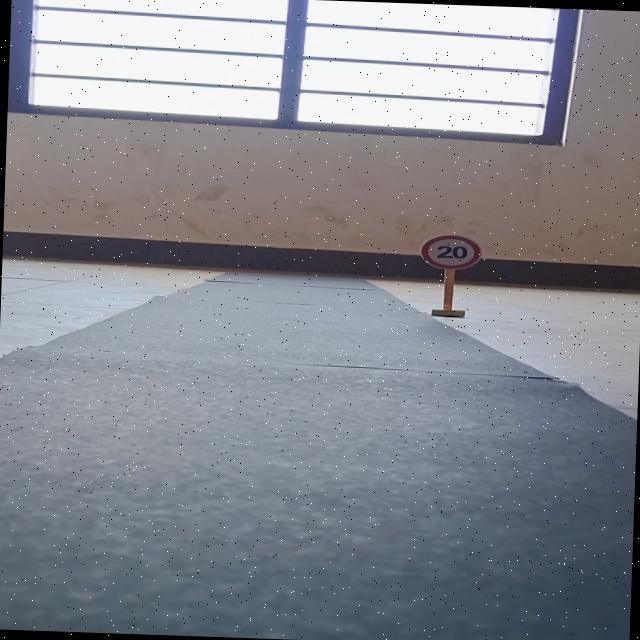Speed20: (407, 227, 492, 274)
